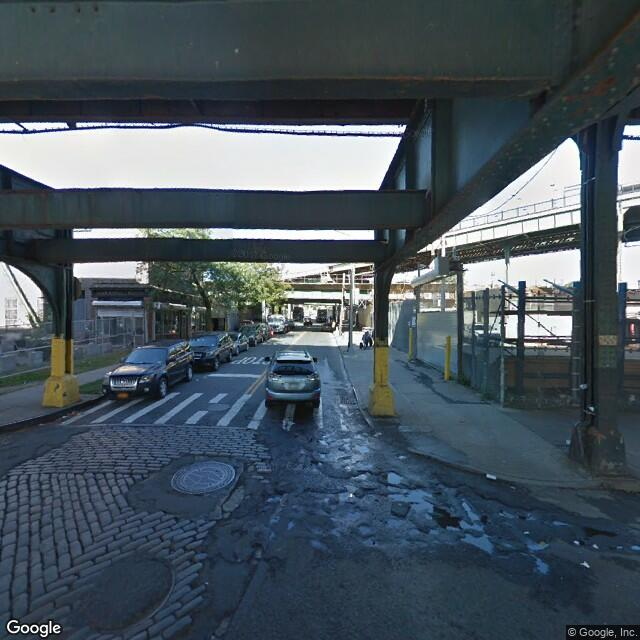litter: (559, 532, 605, 576), (50, 414, 115, 426), (480, 465, 502, 486)
